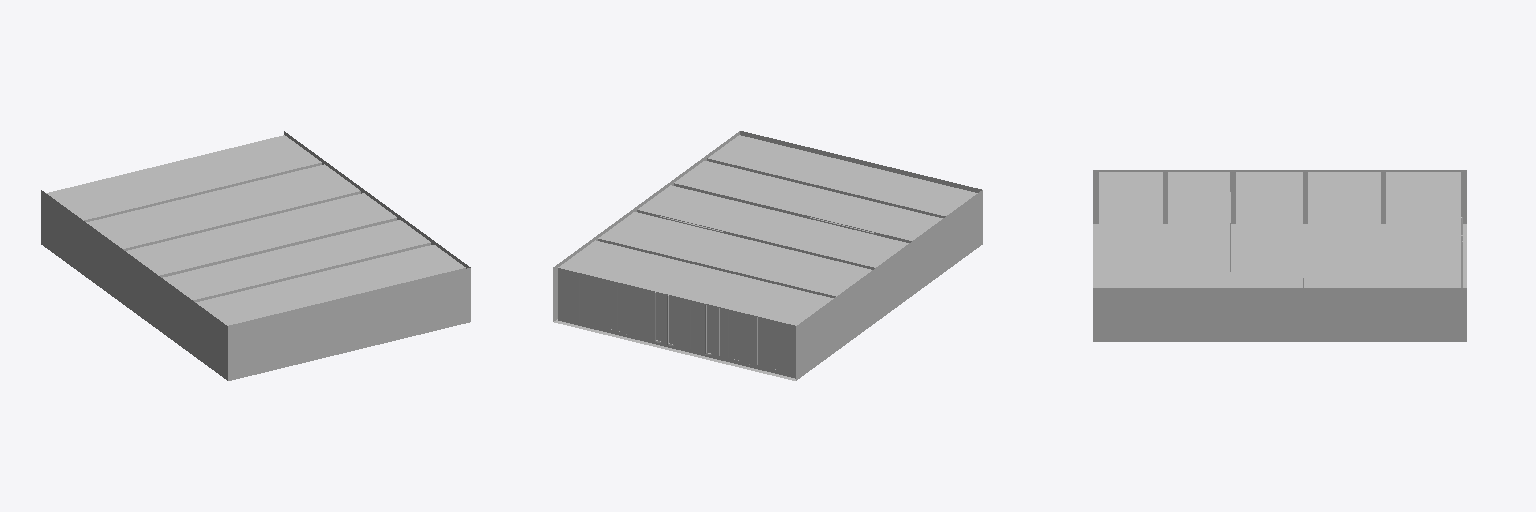
File: BookshelfFull.obj
The picture shows the model from 3 angles: view 1: azimuth 30°, elevation 25°; view 2: azimuth 150°, elevation 25°; view 3: azimuth 270°, elevation 25°; orthographic projection.
Parts seen in each view (by area): view 1: Bookshelf.001; view 2: Bookshelf.001; view 3: Bookshelf.001.
Boxes of the visible parts, box(x1,y1,x2,y2) form: Bookshelf.001: box(41, 131, 470, 380); Bookshelf.001: box(553, 131, 982, 380); Bookshelf.001: box(1093, 170, 1466, 341).
Size of the model in its own units: 19.13 by 4.13 by 25.59.